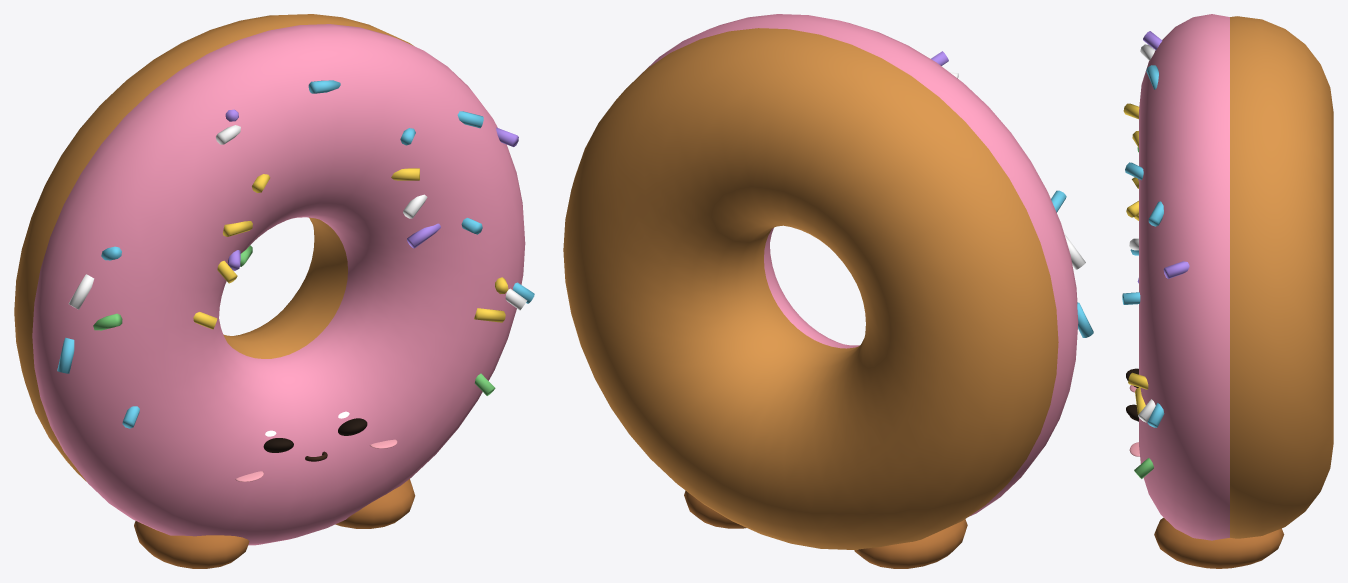
File: donut.glb
The picture shows the model from 3 angles, left to right: view 1: azimuth 30°, elevation 25°; view 2: azimuth 150°, elevation 25°; view 3: azimuth 270°, elevation 25°; orthographic projection. The views are drawn at different scales.
Parts seen in each view (by area): view 1: donut; view 2: donut; view 3: donut.
Part boxes in pixels (x1,y1,x2,y2): donut: (14,14,534,568); donut: (563,14,1093,568); donut: (1122,14,1333,568).
Bounding box in the file's own units: 0.088 × 0.0887 × 0.0351.
